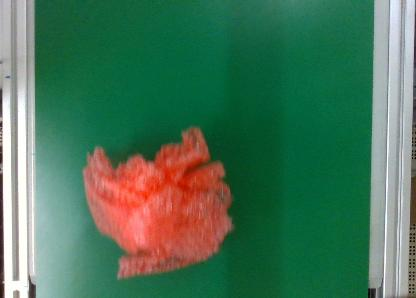Others: (81, 126, 236, 280)
